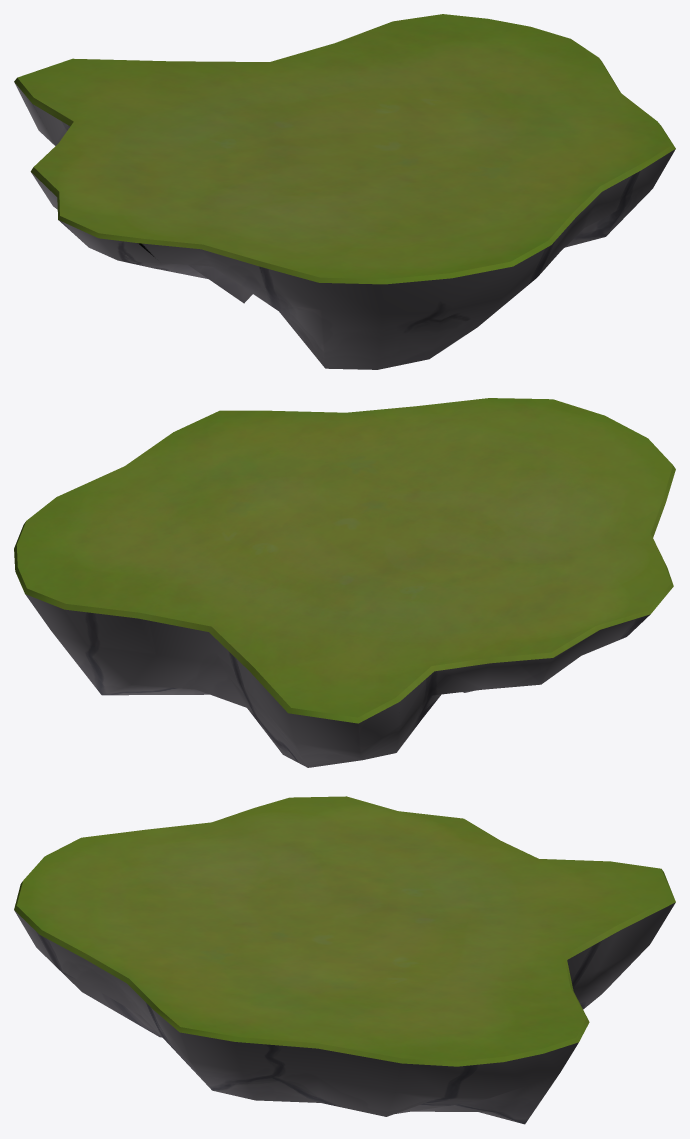
File: small_island_1.fbx
3 views of the same model, one above another, from view 1: azimuth 30°, elevation 25°; view 2: azimuth 150°, elevation 25°; view 3: azimuth 270°, elevation 25° (orthographic). The views are drawn at different scales.
Parts seen in each view (by area): view 1: Cylinder.009; view 2: Cylinder.009; view 3: Cylinder.009.
Part boxes in pixels (x1,y1,x2,y2): Cylinder.009: [14, 14, 675, 369]; Cylinder.009: [14, 398, 675, 767]; Cylinder.009: [14, 796, 675, 1124].
Size of the model in its own units: 3416 by 921 by 3652.
